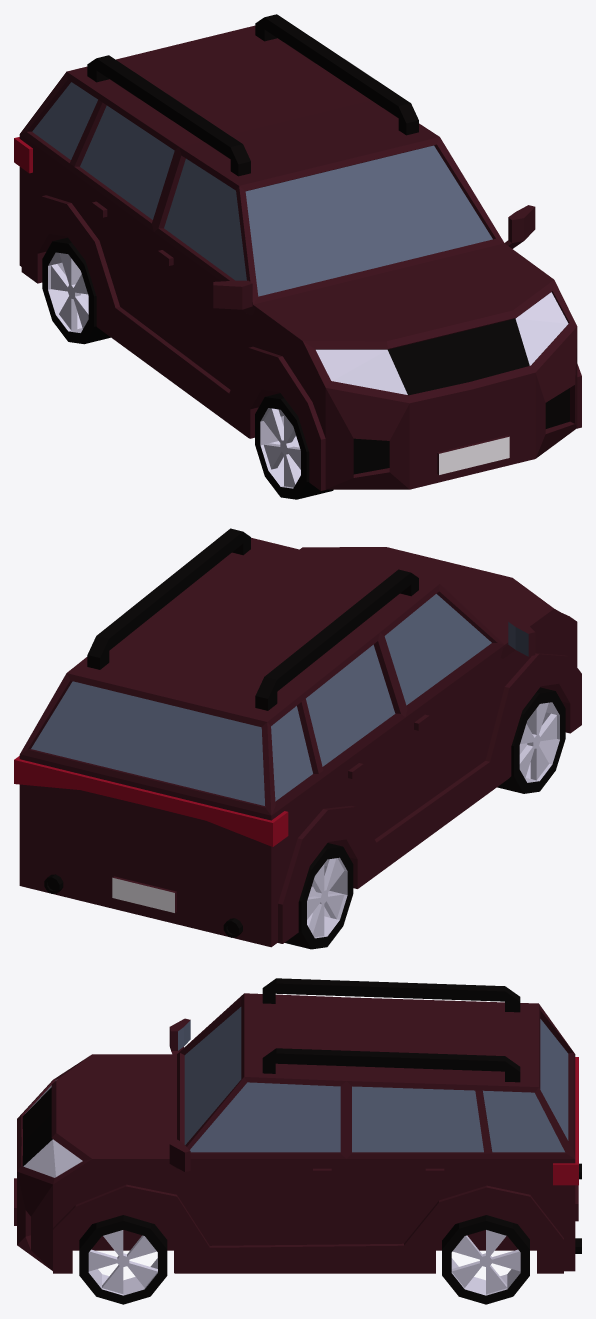
The model's file is suv.glb.
The picture shows the model from 3 angles, top to bottom: view 1: azimuth 30°, elevation 25°; view 2: azimuth 150°, elevation 25°; view 3: azimuth 270°, elevation 25°; orthographic projection. The views are drawn at different scales.
Parts seen in each view (by area): view 1: SUV, SUV wheel front right, SUV wheel rear right; view 2: SUV, SUV wheel rear right, SUV wheel front right; view 3: SUV, SUV wheel front left, SUV wheel rear left.
Part boxes in pixels (x1,y1,x2,y2): SUV: (14,14,581,490); SUV wheel front right: (255,393,333,499); SUV wheel rear right: (42,237,110,344); SUV: (14,528,581,947); SUV wheel rear right: (285,843,353,949); SUV wheel front right: (497,687,565,793); SUV: (14,978,581,1273); SUV wheel front left: (79,1215,167,1304); SUV wheel rear left: (442,1215,529,1304).
Size of the model in its own units: 2.81 by 2.3 by 5.04.
